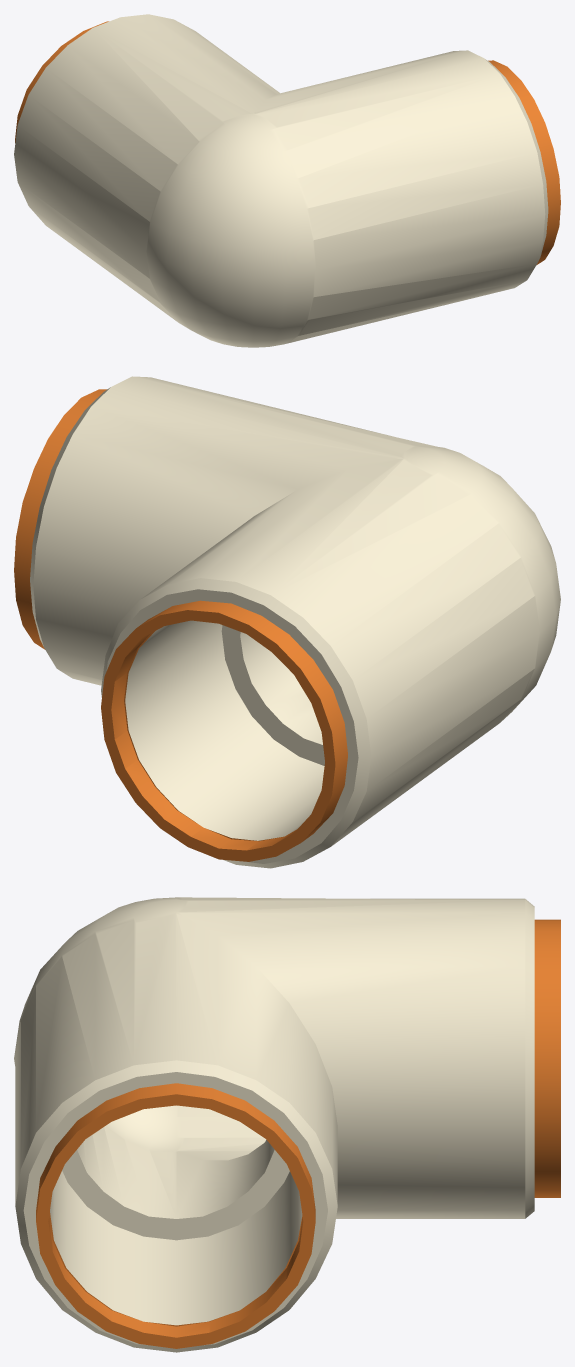
Rendered from pipes_supply__water__0e275bac.glb.
The picture shows the model from 3 angles, top to bottom: view 1: azimuth 30°, elevation 25°; view 2: azimuth 150°, elevation 25°; view 3: azimuth 270°, elevation 25°; orthographic projection. The views are drawn at different scales.
Parts seen in each view (by area): view 1: fit_elbow_pipe_supply_well_to_house_fs.901; view 2: fit_elbow_pipe_supply_well_to_house_fs.901; view 3: fit_elbow_pipe_supply_well_to_house_fs.901.
Part boxes in pixels (bbox=[...]): fit_elbow_pipe_supply_well_to_house_fs.901: bbox=[14, 14, 560, 347]; fit_elbow_pipe_supply_well_to_house_fs.901: bbox=[14, 376, 560, 868]; fit_elbow_pipe_supply_well_to_house_fs.901: bbox=[14, 897, 560, 1352].
Size of the model in its own units: 0.0485 by 0.0286 by 0.0485.
